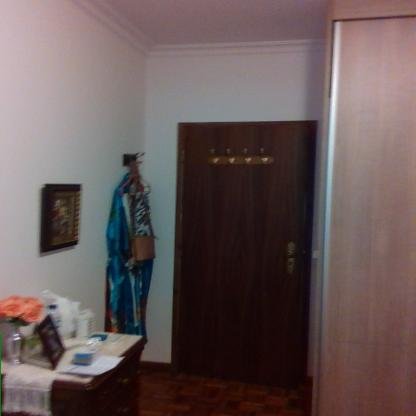closed: (164, 115, 327, 397)
